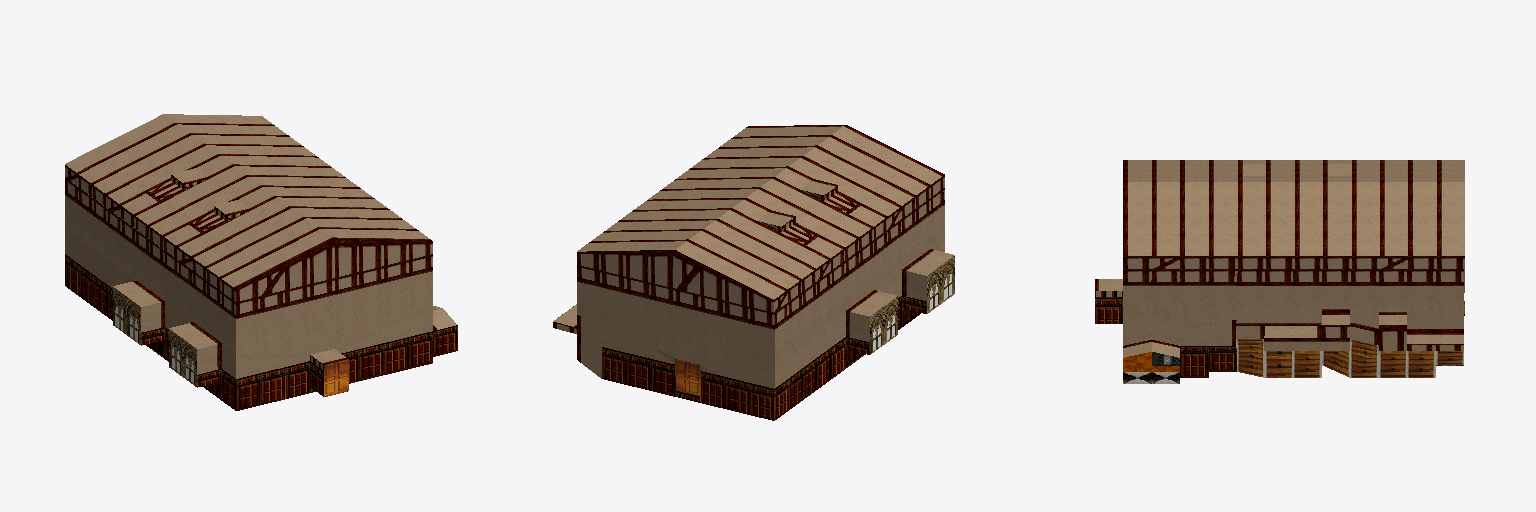
3 views of the same model, side by side, from view 1: azimuth 30°, elevation 25°; view 2: azimuth 150°, elevation 25°; view 3: azimuth 270°, elevation 25° (orthographic).
Parts seen in each view (by area): view 1: M.008_M.000; view 2: M.008_M.000; view 3: M.008_M.000.
Part boxes in pixels (bbox=[...]): M.008_M.000: bbox=[65, 114, 457, 410]; M.008_M.000: bbox=[553, 125, 954, 420]; M.008_M.000: bbox=[1095, 160, 1464, 383].
Size of the model in its own units: 10.04 by 5.77 by 13.1.
10 materials, 1 textured.